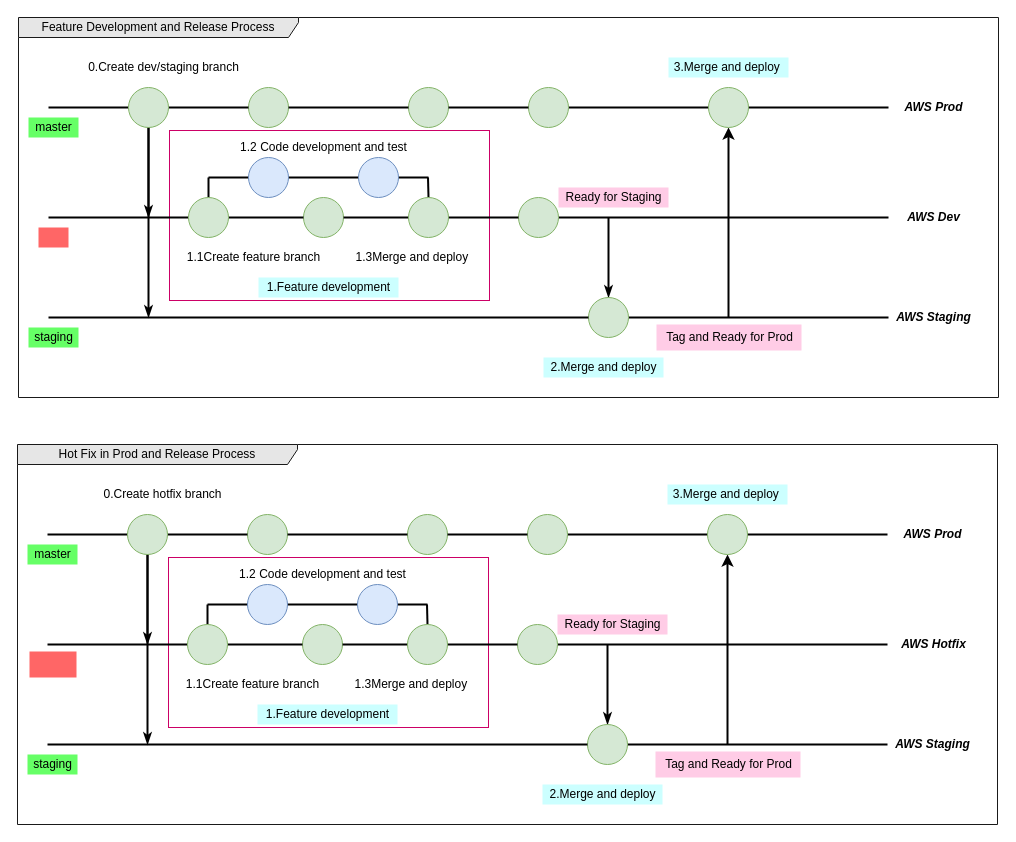
Image size: 1016x842. Some labels were removed from this diagram. The shapes that lost their labels are listed below. From the top down, each one's centre as x and y in pixels, then its label:
At point (53, 237): "dev".
At point (52, 664): "hotfix".
